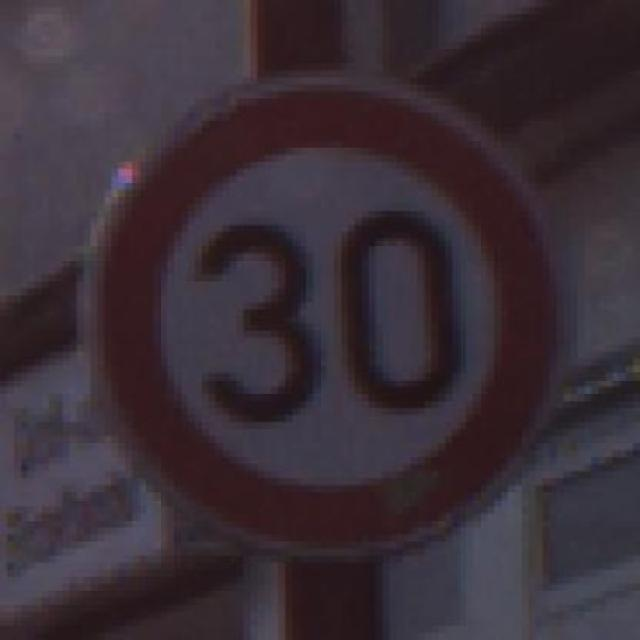Speed Limit 30 KMPh: (56, 56, 584, 584)
